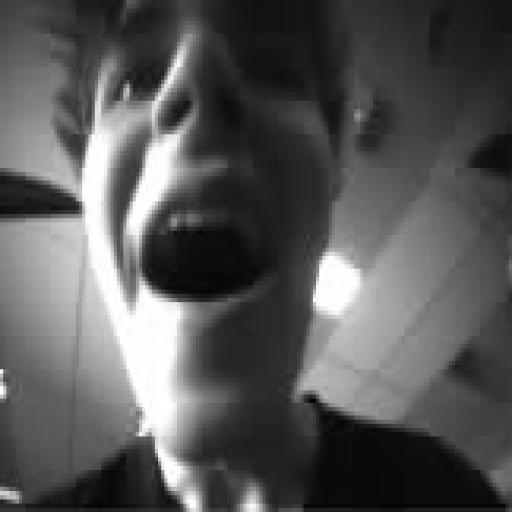human: (35, 0, 502, 511)
